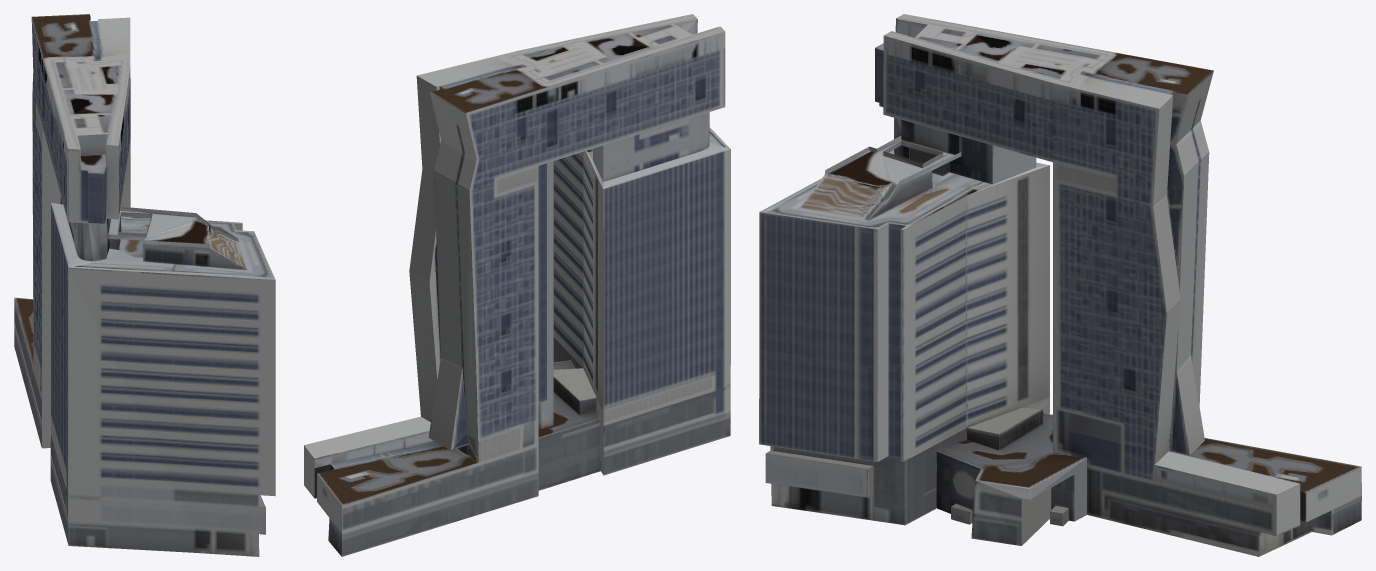
Rendered from 410_PLACEDD.glb.
3 views of the same model, side by side, from view 1: azimuth 30°, elevation 25°; view 2: azimuth 150°, elevation 25°; view 3: azimuth 270°, elevation 25° (orthographic). The views are drawn at different scales.
Parts seen in each view (by area): view 1: 410.001; view 2: 410.001; view 3: 410.001.
Part boxes in pixels (x1,y1,x2,y2): 410.001: [14, 14, 275, 556]; 410.001: [304, 14, 730, 556]; 410.001: [759, 14, 1361, 556].
Bounding box in the file's own units: 62.59 × 99.07 × 128.
1 material, 1 textured.
